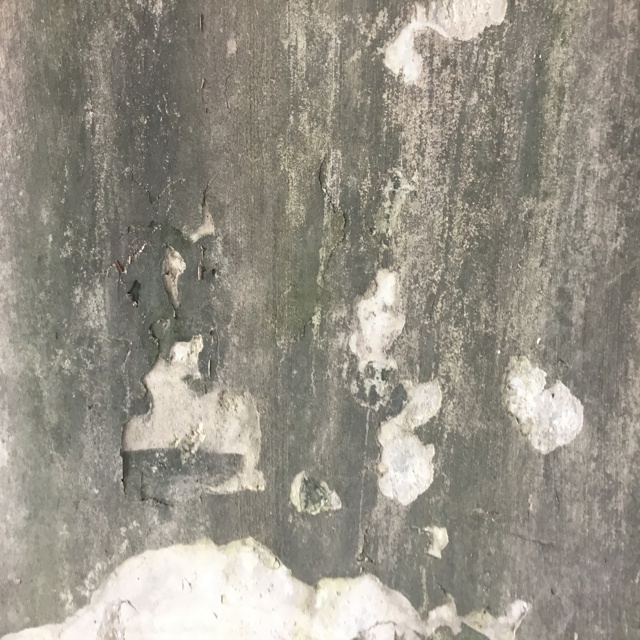spall: (2, 536, 595, 640), (98, 165, 268, 508), (342, 241, 464, 567), (374, 1, 510, 90), (492, 353, 590, 468), (281, 467, 349, 534)
